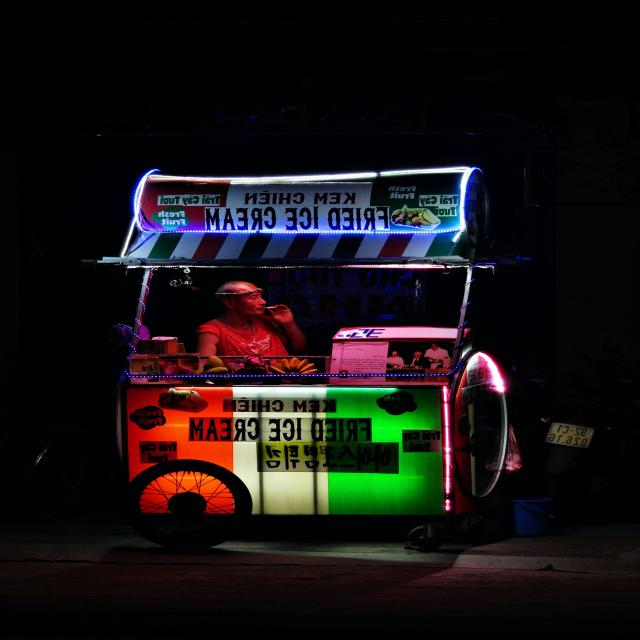adult: (195, 280, 311, 354)
